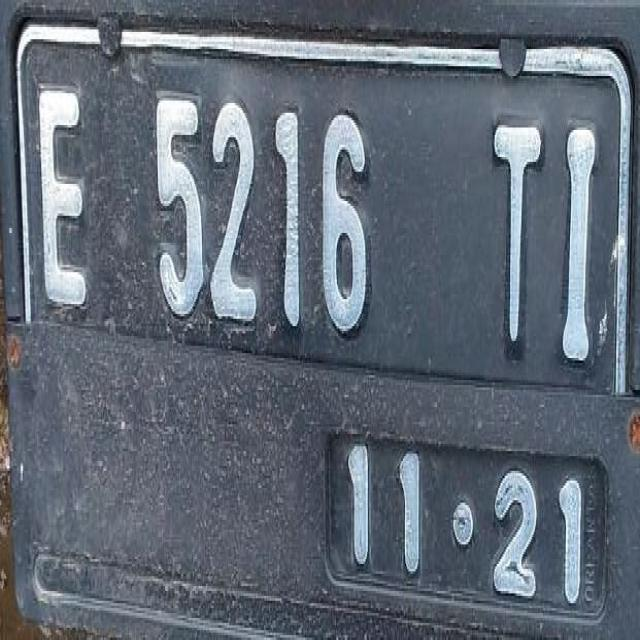1: (262, 66, 309, 347)
2: (209, 74, 263, 336)
5: (147, 77, 209, 334)
6: (316, 98, 379, 340)
E: (33, 62, 91, 323)
I: (555, 105, 605, 385)
T: (486, 109, 546, 379)
